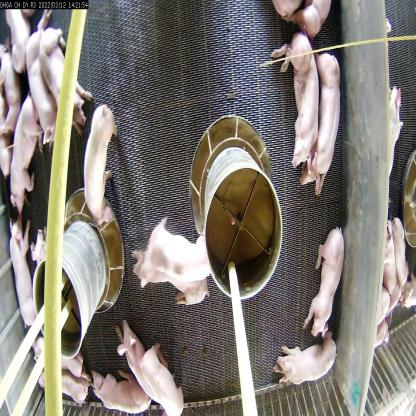Pig: (276, 24, 316, 178), (122, 315, 183, 415), (306, 42, 344, 192), (28, 330, 98, 410), (40, 21, 86, 136), (129, 240, 209, 304), (150, 220, 212, 296), (91, 352, 157, 415), (269, 332, 336, 393), (83, 97, 115, 219), (22, 36, 58, 142), (312, 230, 344, 342), (10, 217, 40, 336), (8, 94, 34, 222)
